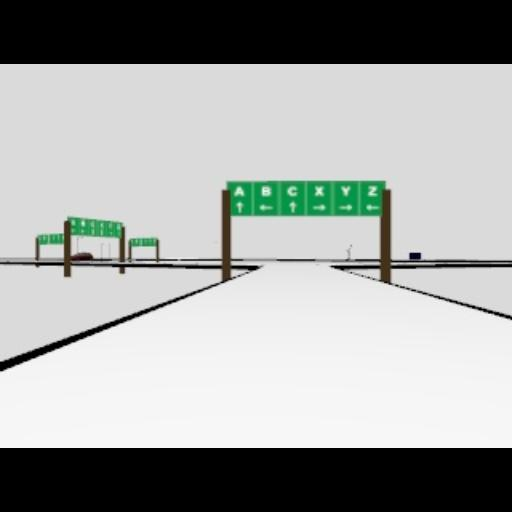A: (234, 186, 246, 196)
B: (261, 186, 273, 196)
C: (288, 186, 298, 196)
Left: (258, 205, 274, 211), (365, 203, 379, 209)
Right: (312, 205, 326, 211), (338, 203, 352, 209)
Straight: (236, 200, 244, 214), (288, 200, 296, 212)
X: (314, 186, 324, 196)
Y: (340, 186, 352, 196)
Z: (70, 219, 82, 235), (368, 186, 378, 196), (81, 218, 91, 228), (90, 219, 96, 235), (98, 221, 104, 235), (115, 221, 121, 235), (51, 234, 61, 242), (70, 218, 76, 226), (132, 239, 138, 245), (80, 219, 84, 225)
